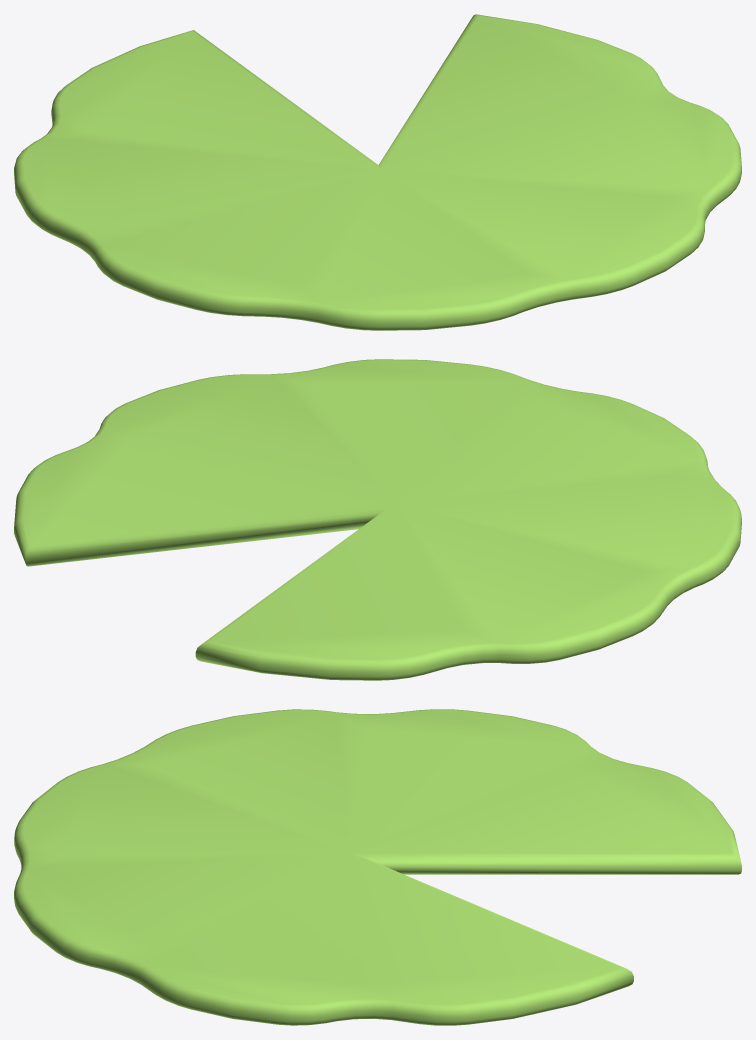
File: Lilypad2.fbx
3 views of the same model, one above another, from view 1: azimuth 30°, elevation 25°; view 2: azimuth 150°, elevation 25°; view 3: azimuth 270°, elevation 25° (orthographic).
Parts seen in each view (by area): view 1: Cylinder; view 2: Cylinder; view 3: Cylinder.
Boxes of the visible parts, <box> form: Cylinder: <box>14,14,741,330</box>; Cylinder: <box>14,359,741,680</box>; Cylinder: <box>14,709,741,1025</box>.
Bounding box in the file's own units: 302 × 9.07 × 307.
